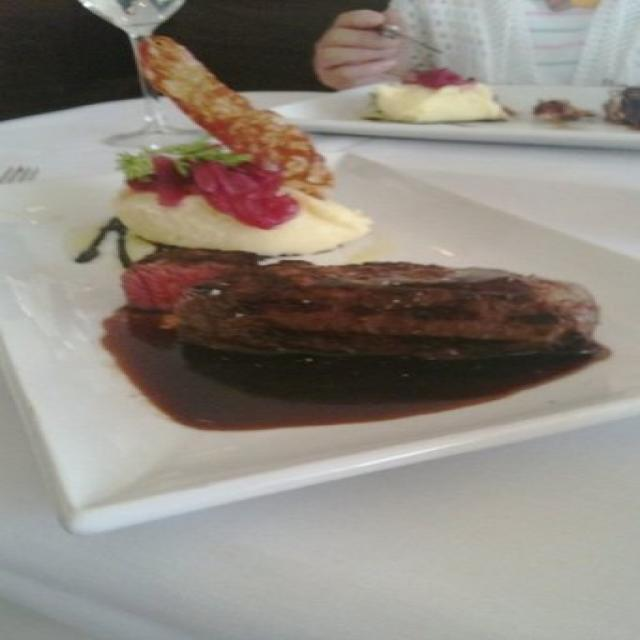Steak: (81, 248, 633, 412)
